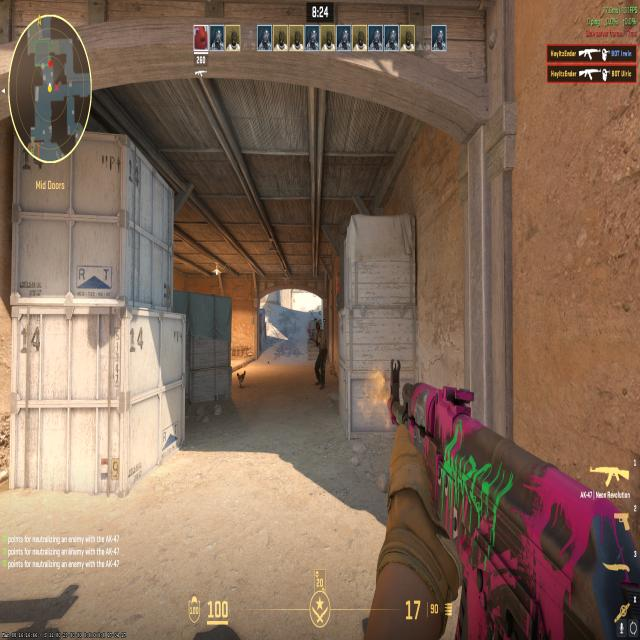t: (310, 318, 329, 392)
